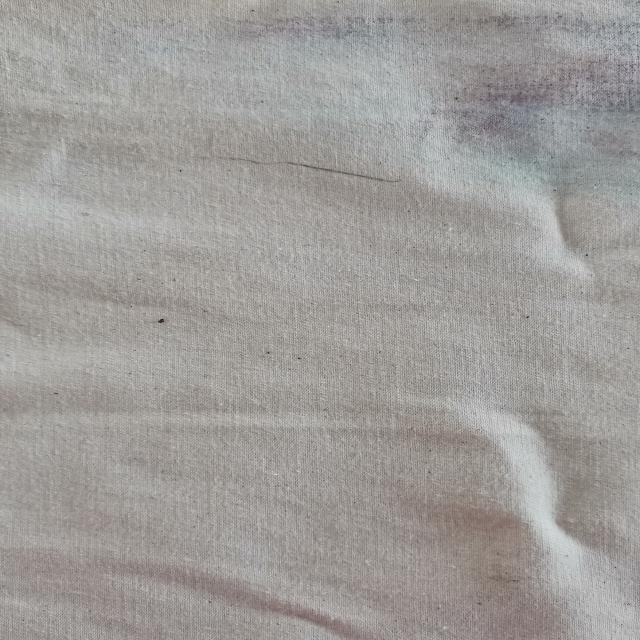taaaches: (26, 0, 640, 199)
